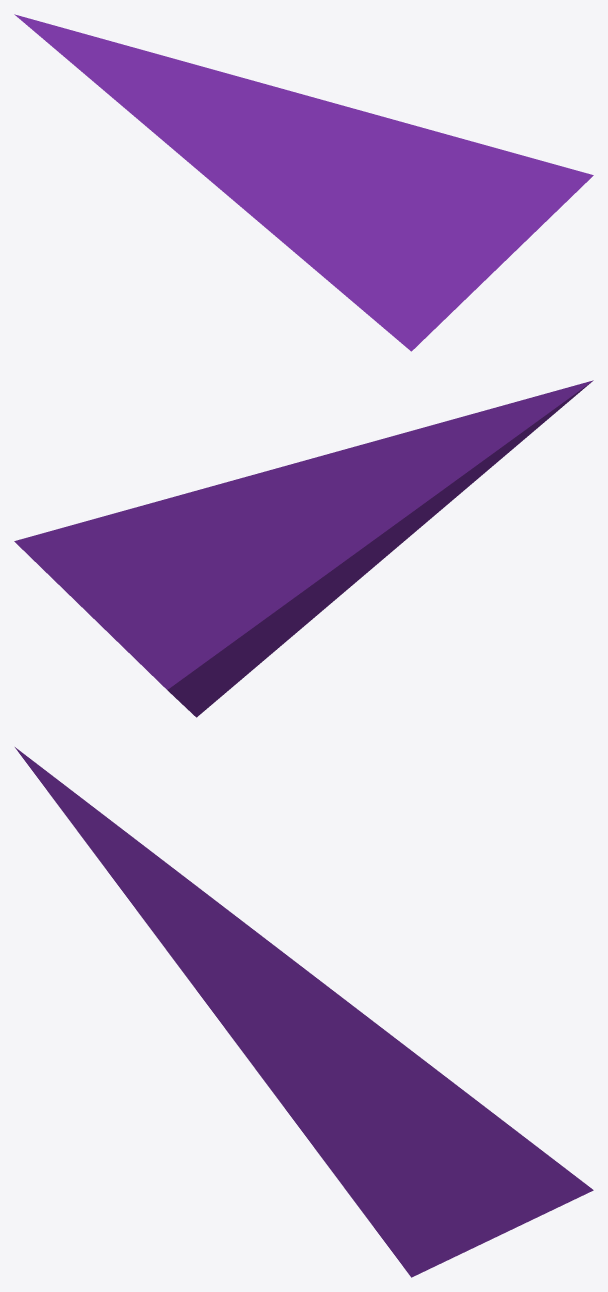
File: Window_38_8_chunks.fbx
The picture shows the model from 3 angles, top to bottom: view 1: azimuth 30°, elevation 25°; view 2: azimuth 150°, elevation 25°; view 3: azimuth 330°, elevation 25°; orthographic projection.
Visible parts, largest first — view 1: Window_38_8_0; view 2: Window_38_8_0; view 3: Window_38_8_0.
Part boxes in pixels (x1,y1,x2,y2): Window_38_8_0: (14, 14, 593, 351); Window_38_8_0: (14, 380, 593, 717); Window_38_8_0: (15, 747, 593, 1277).
Size of the model in its own units: 240 by 172 by 14.96.
